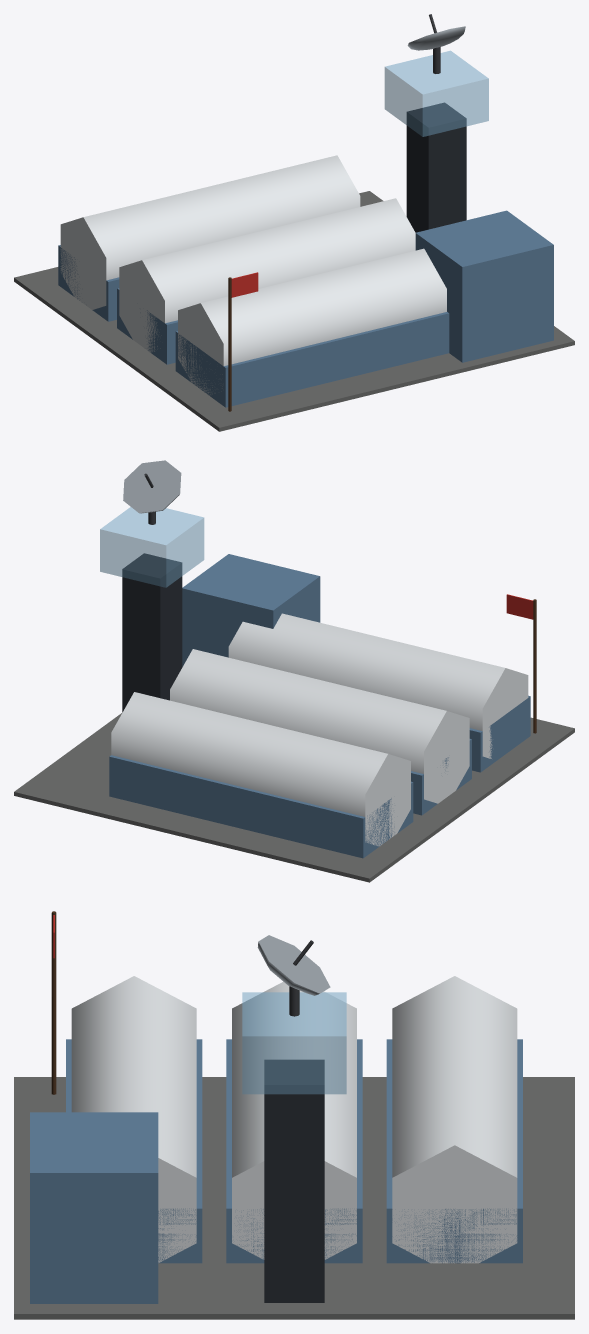
The model's file is bld_special_barracks_a09_lod1.glb.
3 views of the same model, one above another, from view 1: azimuth 30°, elevation 25°; view 2: azimuth 150°, elevation 25°; view 3: azimuth 270°, elevation 25° (orthographic). The views are drawn at different scales.
Visible parts, largest first — view 1: body, antenna; view 2: body, antenna; view 3: body, antenna.
Part boxes in pixels (<box>): body: <box>14,50,574,431</box>; antenna: <box>407,14,465,73</box>; body: <box>14,507,574,882</box>; antenna: <box>123,460,181,524</box>; body: <box>14,911,574,1319</box>; antenna: <box>257,935,330,1016</box>.
Size of the model in its own units: 14 by 9.99 by 14.
